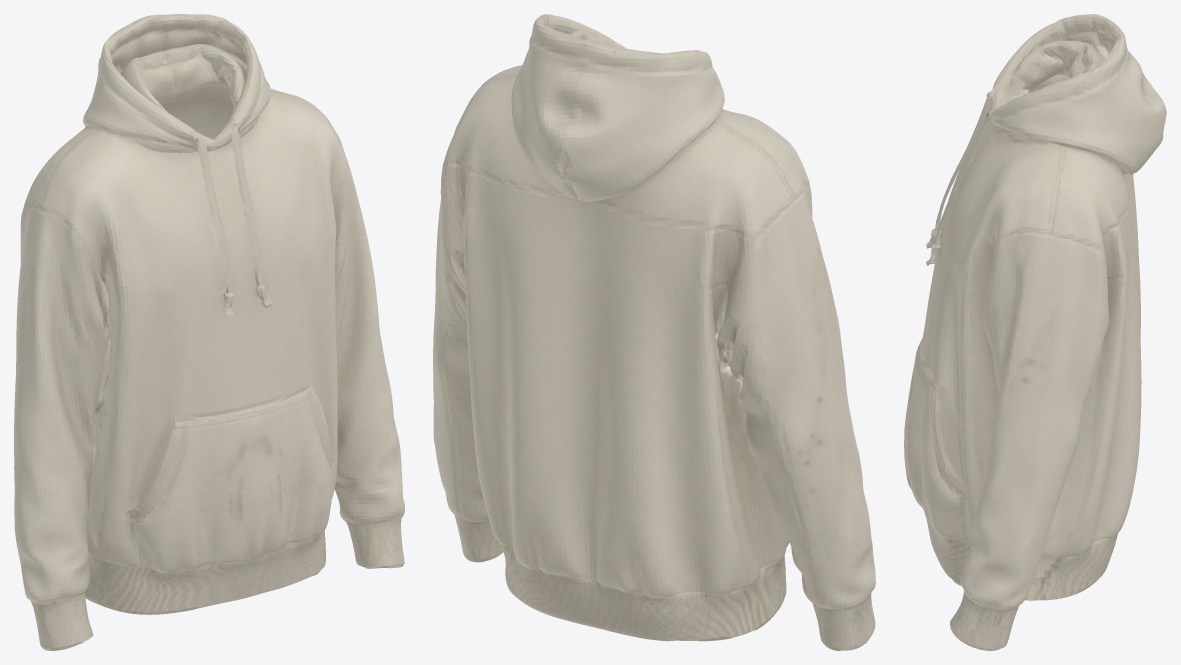
Rendered from hoodie.glb.
3 views of the same model, side by side, from view 1: azimuth 30°, elevation 25°; view 2: azimuth 150°, elevation 25°; view 3: azimuth 270°, elevation 25° (orthographic). The views are drawn at different scales.
Parts seen in each view (by area): view 1: Mesh_0; view 2: Mesh_0; view 3: Mesh_0.
Boxes of the visible parts, left/top/right/bottom form: Mesh_0: left=14, top=14, right=404, bottom=650; Mesh_0: left=433, top=14, right=875, bottom=650; Mesh_0: left=904, top=14, right=1166, bottom=650.
Size of the model in its own units: 1.38 by 1.9 by 0.8491.
1 material, 1 textured.
